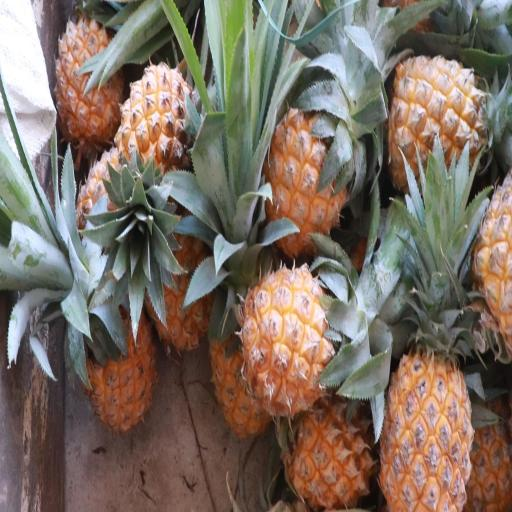Pineapple - v8 v1: (377, 281, 473, 512), (236, 255, 342, 426), (386, 49, 491, 200), (78, 258, 162, 445), (259, 101, 353, 268), (278, 372, 381, 509), (138, 182, 216, 358), (114, 57, 199, 193), (52, 16, 126, 153), (466, 156, 512, 374)
